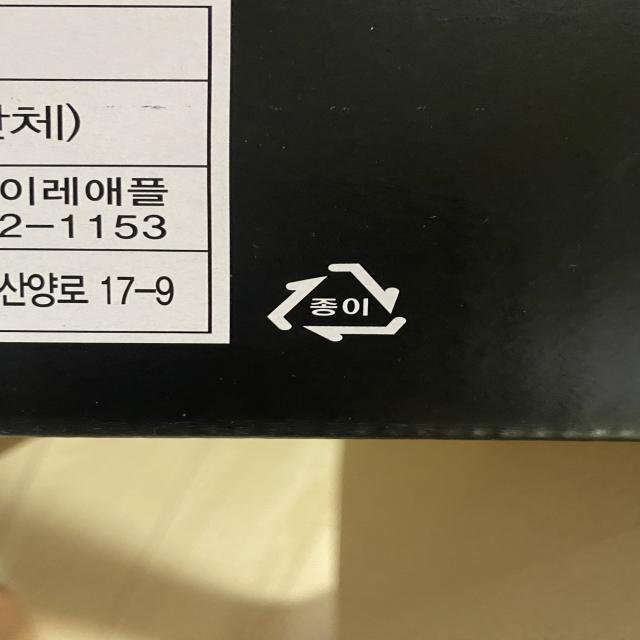Paper: (252, 254, 422, 349)
